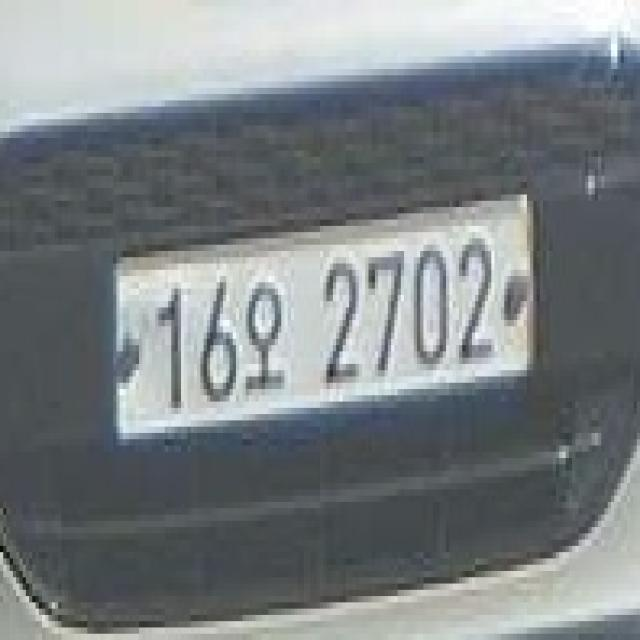0: (408, 232, 450, 370)
1: (152, 276, 194, 420)
2: (449, 226, 498, 370), (320, 245, 362, 395)
6: (197, 264, 243, 414)
7: (362, 238, 411, 383)
license_plate: (107, 170, 546, 464)
o: (242, 263, 288, 408)
